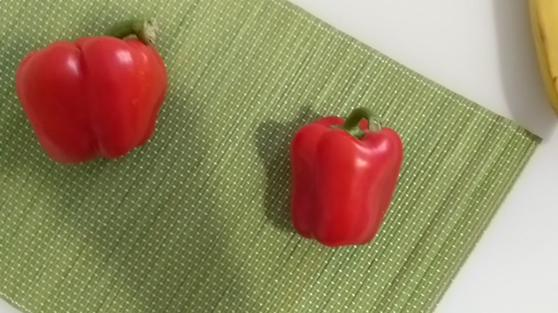pepper: (16, 17, 168, 165), (289, 106, 402, 245)
